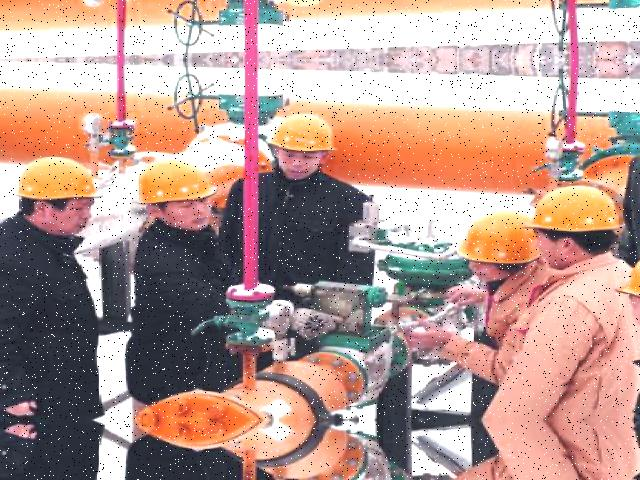Helmet: (526, 182, 628, 244), (452, 203, 546, 268), (13, 149, 113, 209), (129, 152, 226, 212), (267, 107, 343, 160)
